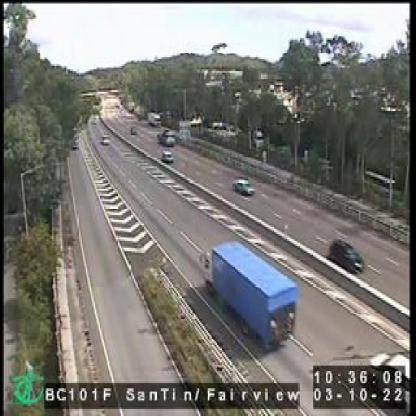Car: (329, 234, 365, 274), (233, 177, 254, 194), (159, 151, 173, 163), (102, 133, 110, 144), (127, 125, 134, 133)
Truck: (197, 241, 294, 347), (158, 126, 174, 148)
